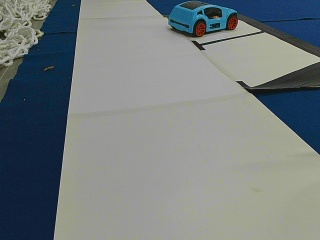car: (169, 3, 238, 36)
